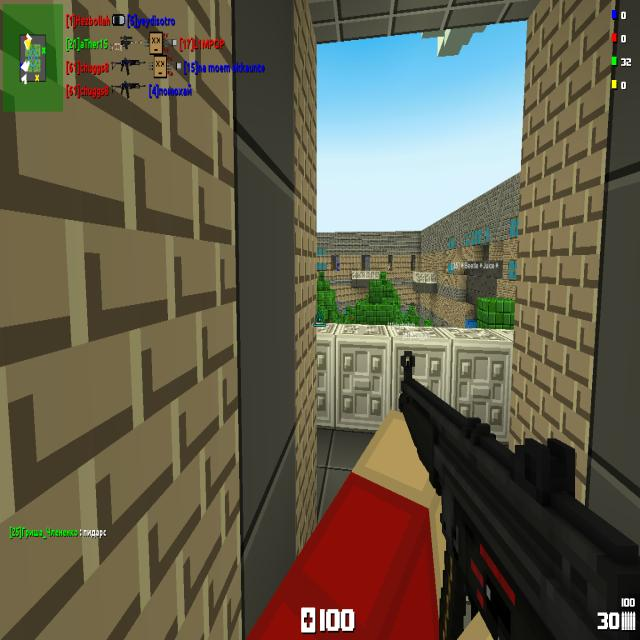enemy: (388, 263, 392, 271), (337, 263, 339, 271)
